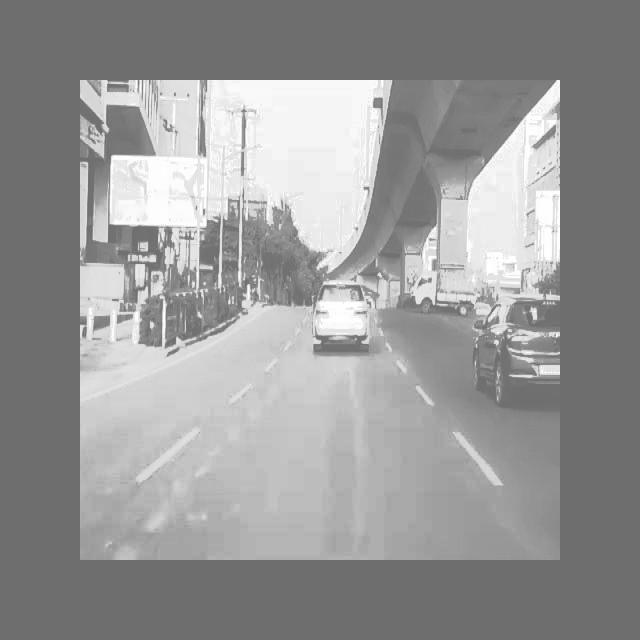Car: (476, 291, 562, 421), (309, 268, 379, 374)
